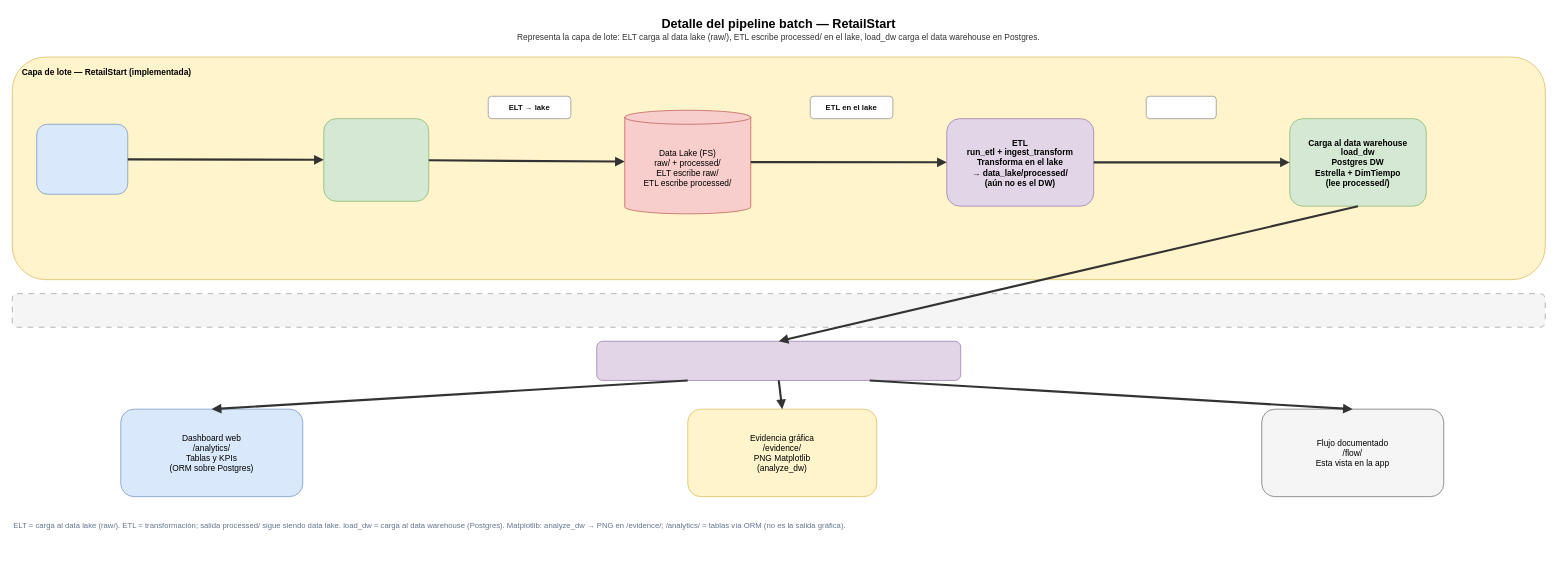
Some shapes in this 1558 by 564 pixel diagram are drawn without their labels. Here are the shapes that lost their labels. From the top down, the centre of each, then its label:
At pixel 1181 107: "carga al DW".
At pixel 82 159: "Fuentes Archivos CSV, JSON, XML, TXT data_sources/".
At pixel 376 159: "ELT run_elt_ingest Carga datos al data lake → data_lake/raw/".
At pixel 778 310: "Speed layer — no implementada (fuera de alcance)".
At pixel 778 360: "Serving y consumo — Docker (Nginx + Gunicorn + Django)".
